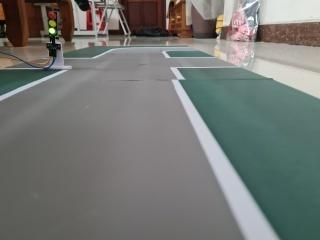green: (45, 6, 65, 52)
